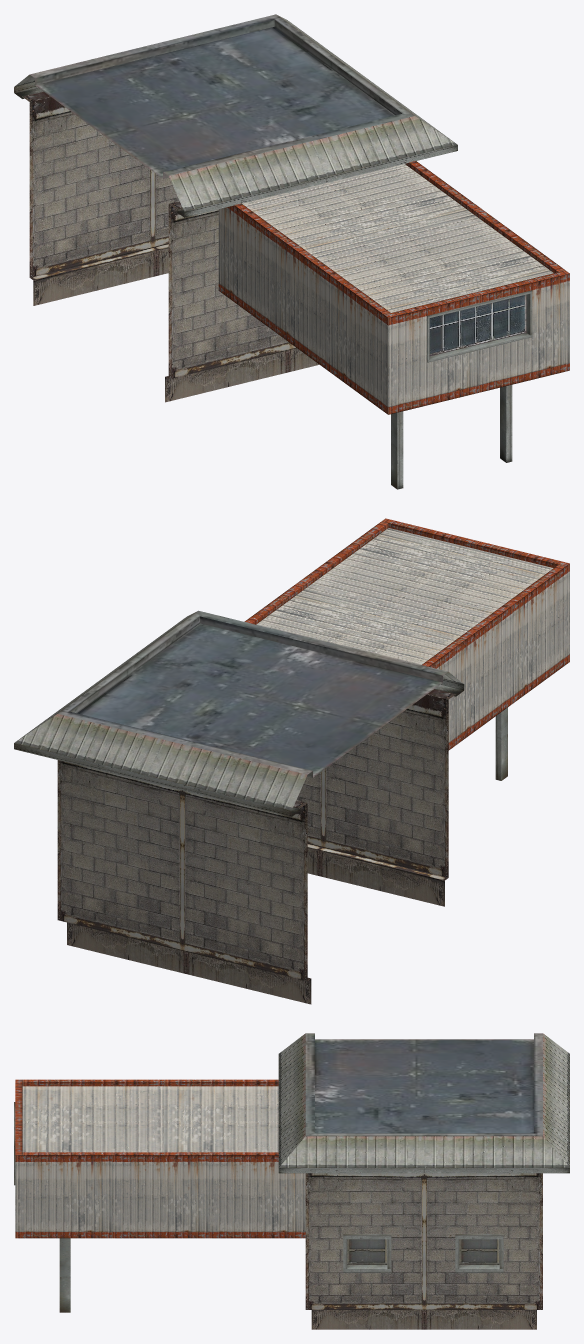
The model's file is Hangar_v2_outbuilding.glb.
3 renders of one model, top to bottom at view 1: azimuth 30°, elevation 25°; view 2: azimuth 150°, elevation 25°; view 3: azimuth 270°, elevation 25°, orthographic. The views are drawn at different scales.
Parts seen in each view (by area): view 1: Hangar_v2_outbuilding; view 2: Hangar_v2_outbuilding; view 3: Hangar_v2_outbuilding.
Part boxes in pixels (x1,y1,x2,y2): Hangar_v2_outbuilding: (14, 14, 569, 489); Hangar_v2_outbuilding: (14, 518, 569, 1004); Hangar_v2_outbuilding: (14, 1033, 569, 1329).
Size of the model in its own units: 7.84 by 6.27 by 16.14.
1 material, 1 textured.
